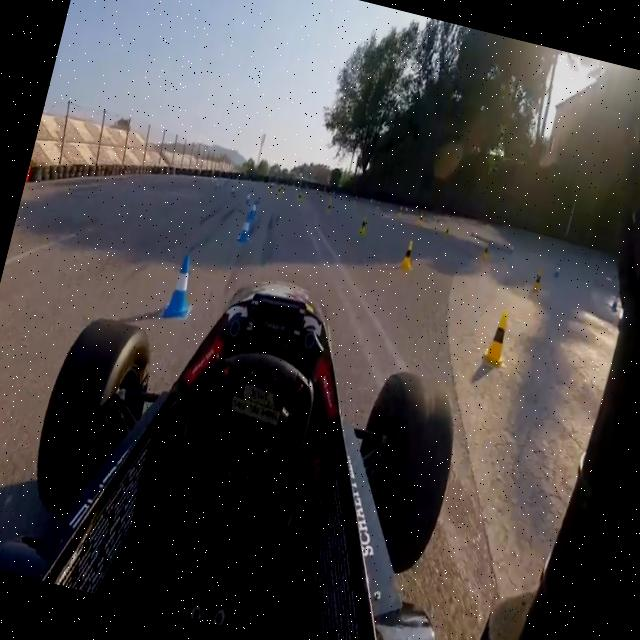blue_cone: (156, 243, 206, 325), (235, 214, 254, 247), (246, 202, 260, 228), (552, 256, 565, 280), (609, 290, 621, 312), (244, 192, 252, 208)
yellow_cone: (477, 306, 513, 368), (400, 240, 418, 271), (528, 270, 544, 298), (358, 215, 369, 237), (480, 243, 490, 263), (324, 200, 334, 219), (296, 192, 302, 204), (267, 183, 272, 196), (276, 186, 281, 198), (280, 186, 284, 193)
